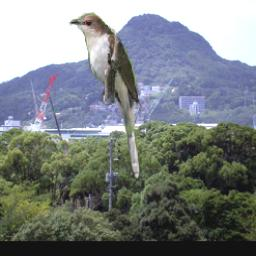Cuckoo: (67, 12, 140, 179)
